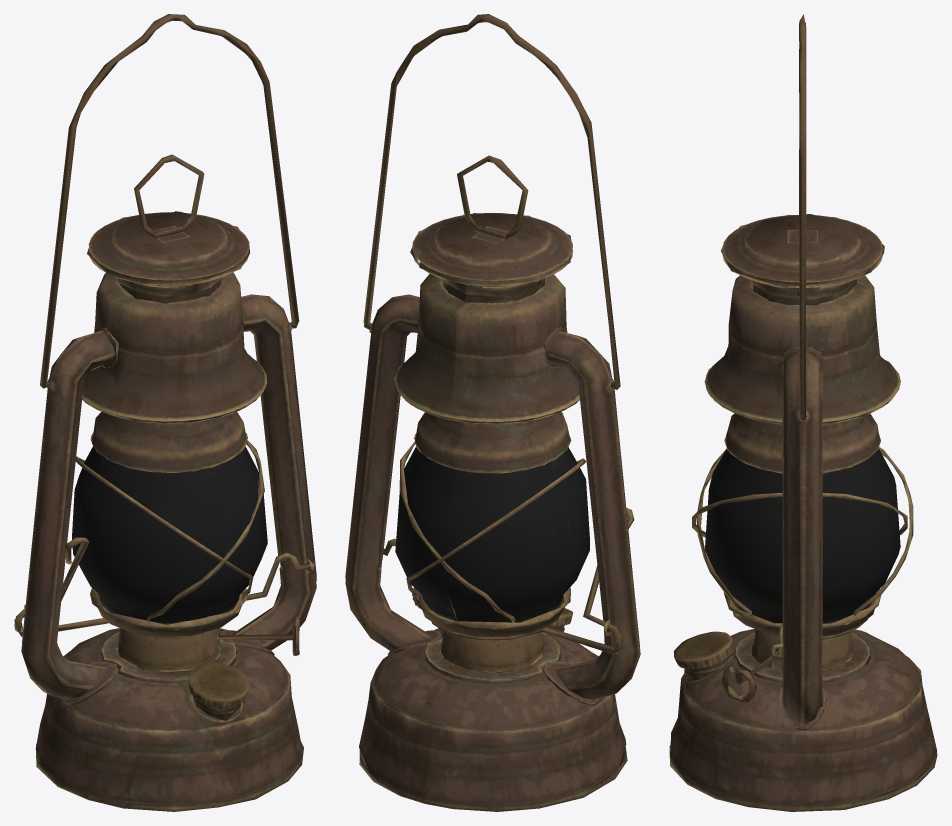
Rendered from lantern.glb.
3 renders of one model, left to right at view 1: azimuth 30°, elevation 25°; view 2: azimuth 150°, elevation 25°; view 3: azimuth 270°, elevation 25°, orthographic.
Visible parts, largest first — view 1: lantern; view 2: lantern; view 3: lantern.
Part boxes in pixels (box(x1,y1,x2,y2)): lantern: box(14, 14, 316, 811); lantern: box(345, 14, 640, 811); lantern: box(669, 14, 937, 811).
Bounding box in the file's own units: 0.1226 × 0.2943 × 0.0968.
2 materials, 2 textured.
